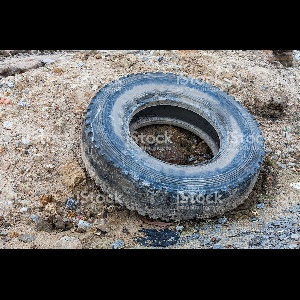tire: (80, 70, 264, 222)
